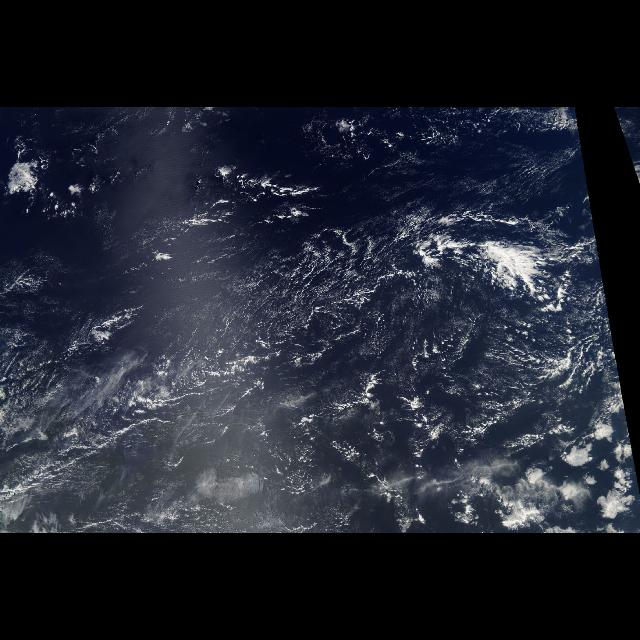Sugar: (156, 212, 462, 400)
